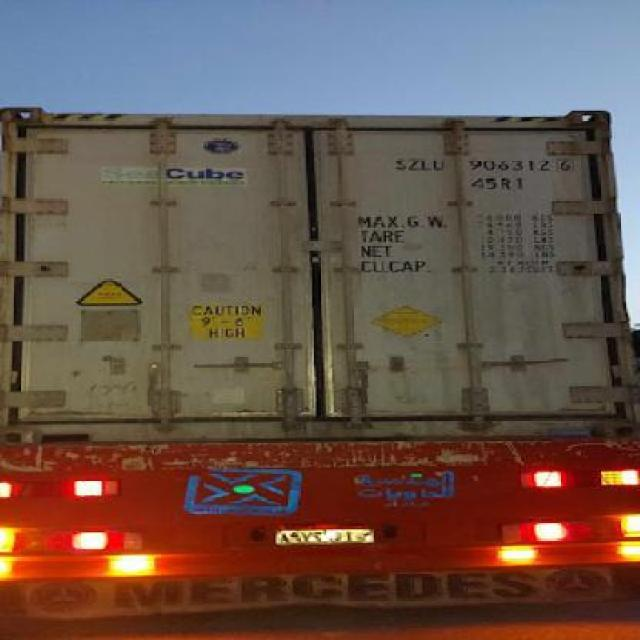ISO: (473, 173, 530, 189)
container_number: (404, 150, 570, 174)
